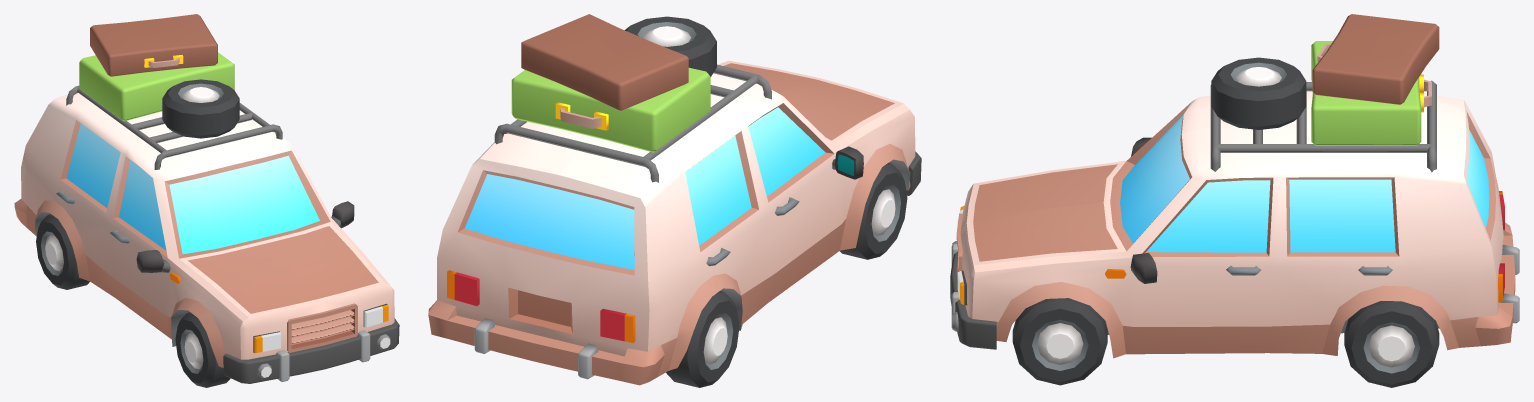
The model's file is Car_15.glb.
3 renders of one model, left to right at view 1: azimuth 30°, elevation 25°; view 2: azimuth 150°, elevation 25°; view 3: azimuth 270°, elevation 25°, orthographic. The views are drawn at different scales.
Visible parts, largest first — view 1: Car_15, Wheel_007, Wheel_008; view 2: Car_15, Wheel_008, Wheel_007; view 3: Car_15, Wheel_005, Wheel_006.
Boxes of the visible parts, x1,y1,x2,y2 form: Car_15: (14, 14, 399, 383); Wheel_007: (175, 312, 230, 387); Wheel_008: (36, 214, 89, 289); Car_15: (428, 14, 921, 385); Wheel_008: (666, 291, 739, 387); Wheel_007: (840, 163, 907, 259); Car_15: (950, 14, 1519, 358); Wheel_005: (1344, 301, 1439, 387); Wheel_006: (1012, 298, 1107, 385).
Size of the model in its own units: 2.43 by 2.56 by 4.57.
Materials: 2 (2 with a texture image).
